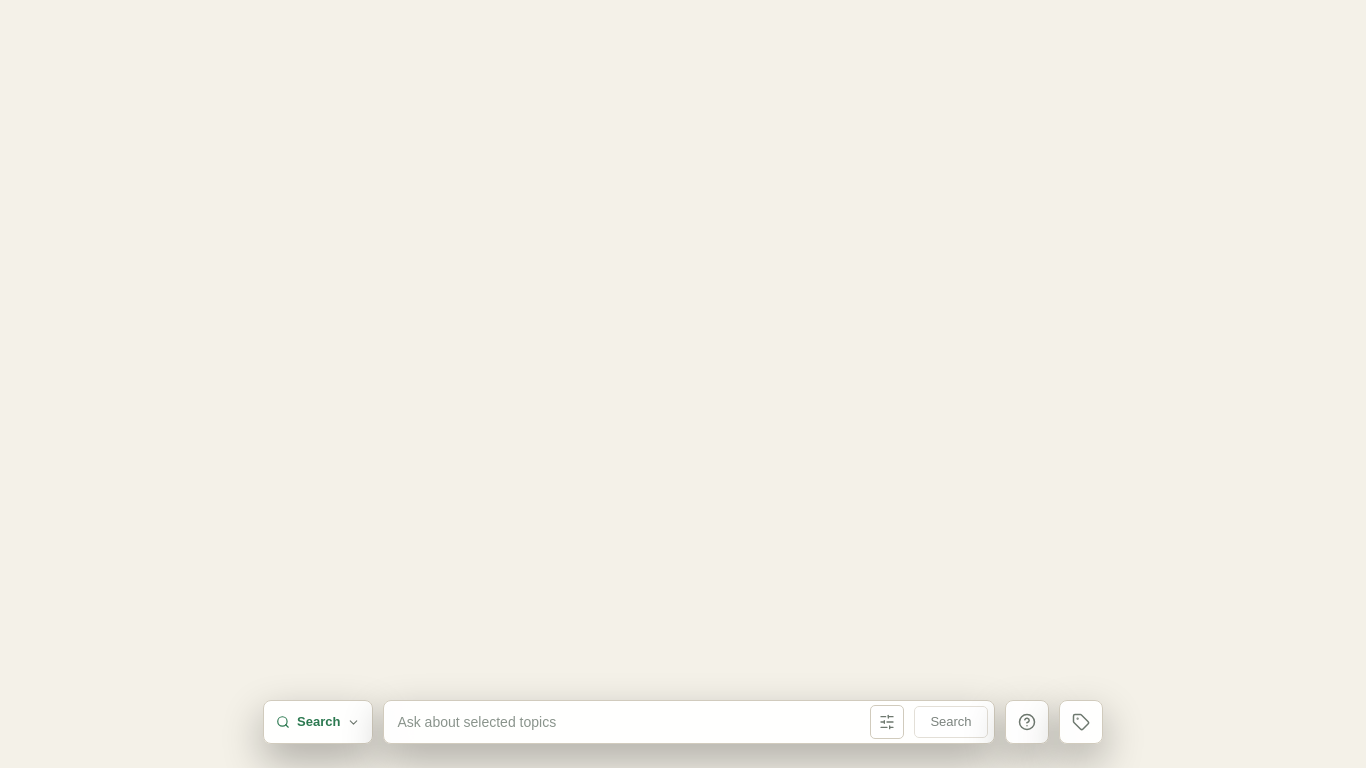
Test case: SearchBar › opens Query Modes Guide dialog when clicking info icon
Click the button named "Query Modes Guide".
click(1027, 722)  # box x1=1005 y1=700 x2=1049 y2=744
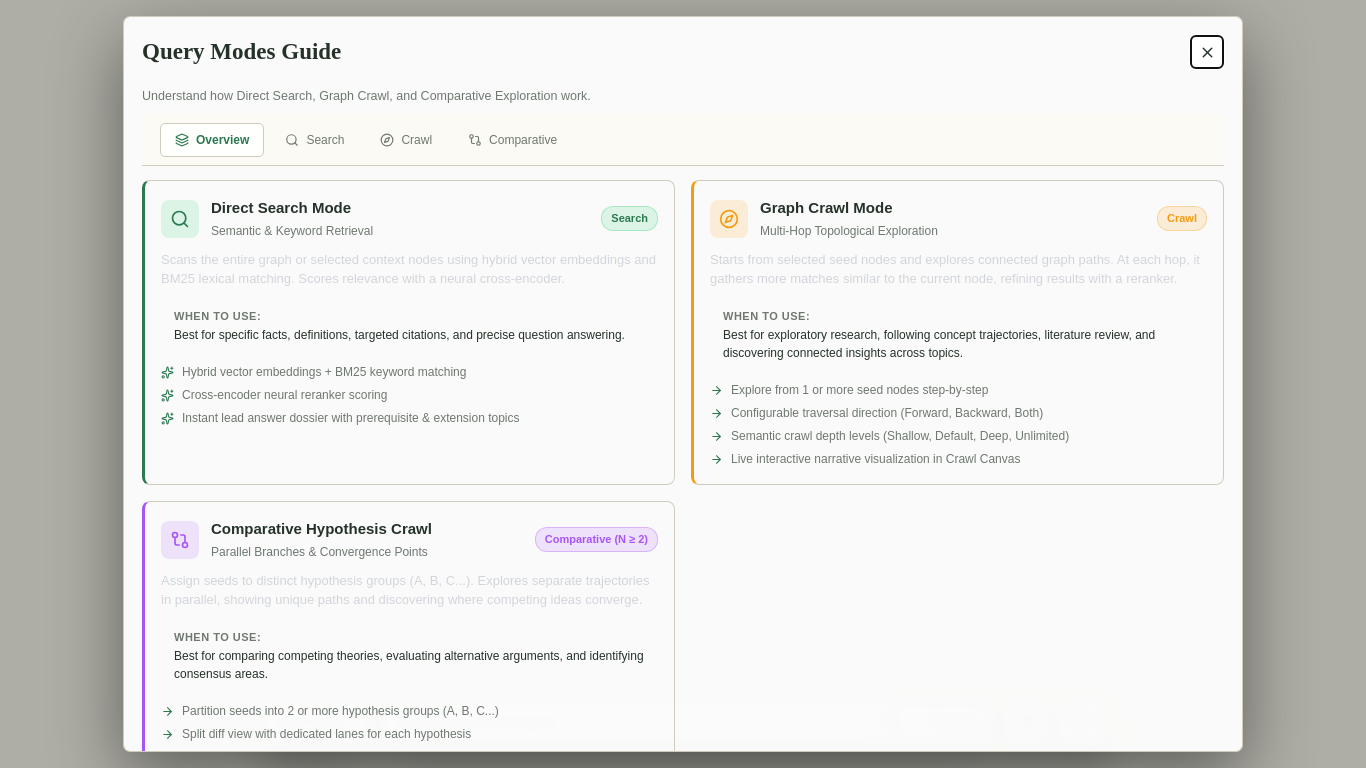
Now the heading "Direct Search Mode" is shown, box x1=211 y1=199 x2=351 y2=216
Now the heading "Graph Crawl Mode" is shown, box x1=760 y1=199 x2=892 y2=216
